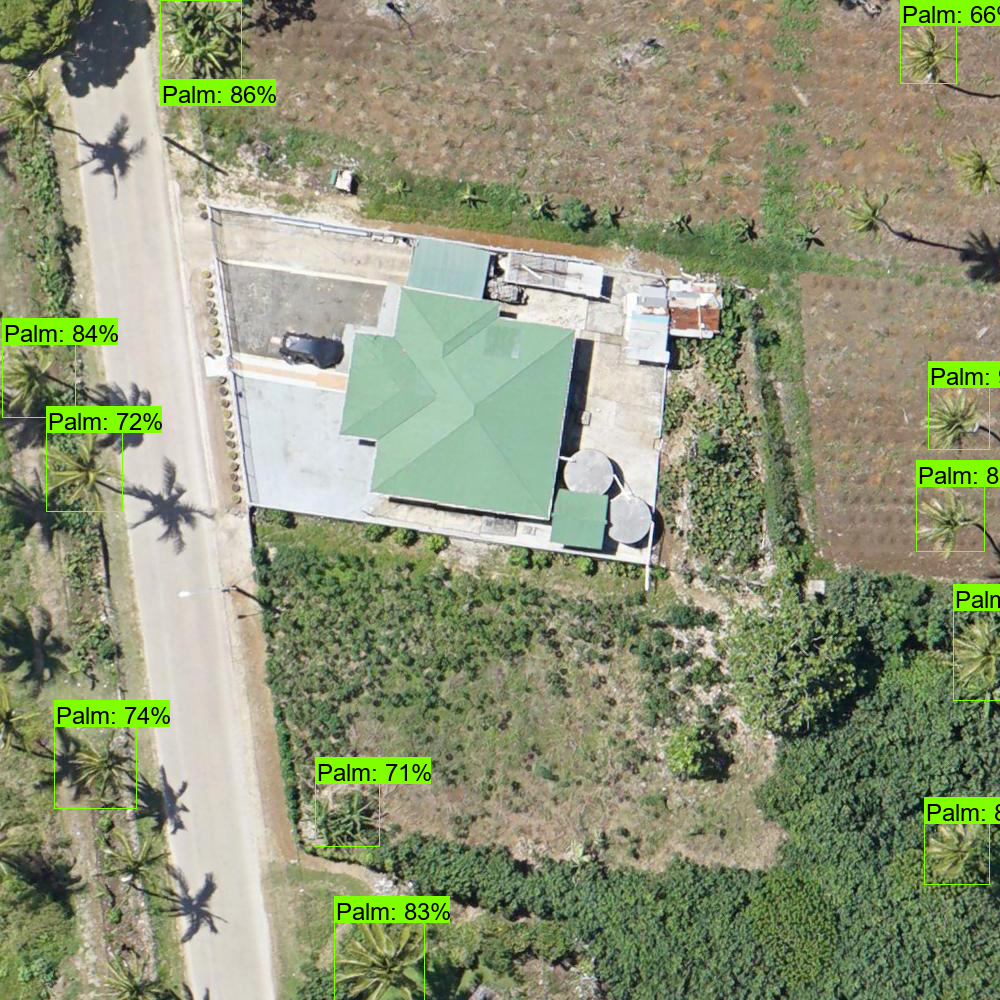Palm: (336, 921, 439, 998), (47, 426, 121, 515), (66, 734, 141, 802), (914, 485, 978, 556), (920, 392, 986, 457), (104, 831, 167, 895), (3, 76, 57, 149), (923, 818, 988, 877), (4, 345, 55, 419), (899, 28, 957, 88), (951, 619, 1000, 685), (950, 135, 1000, 194), (842, 184, 889, 233)
